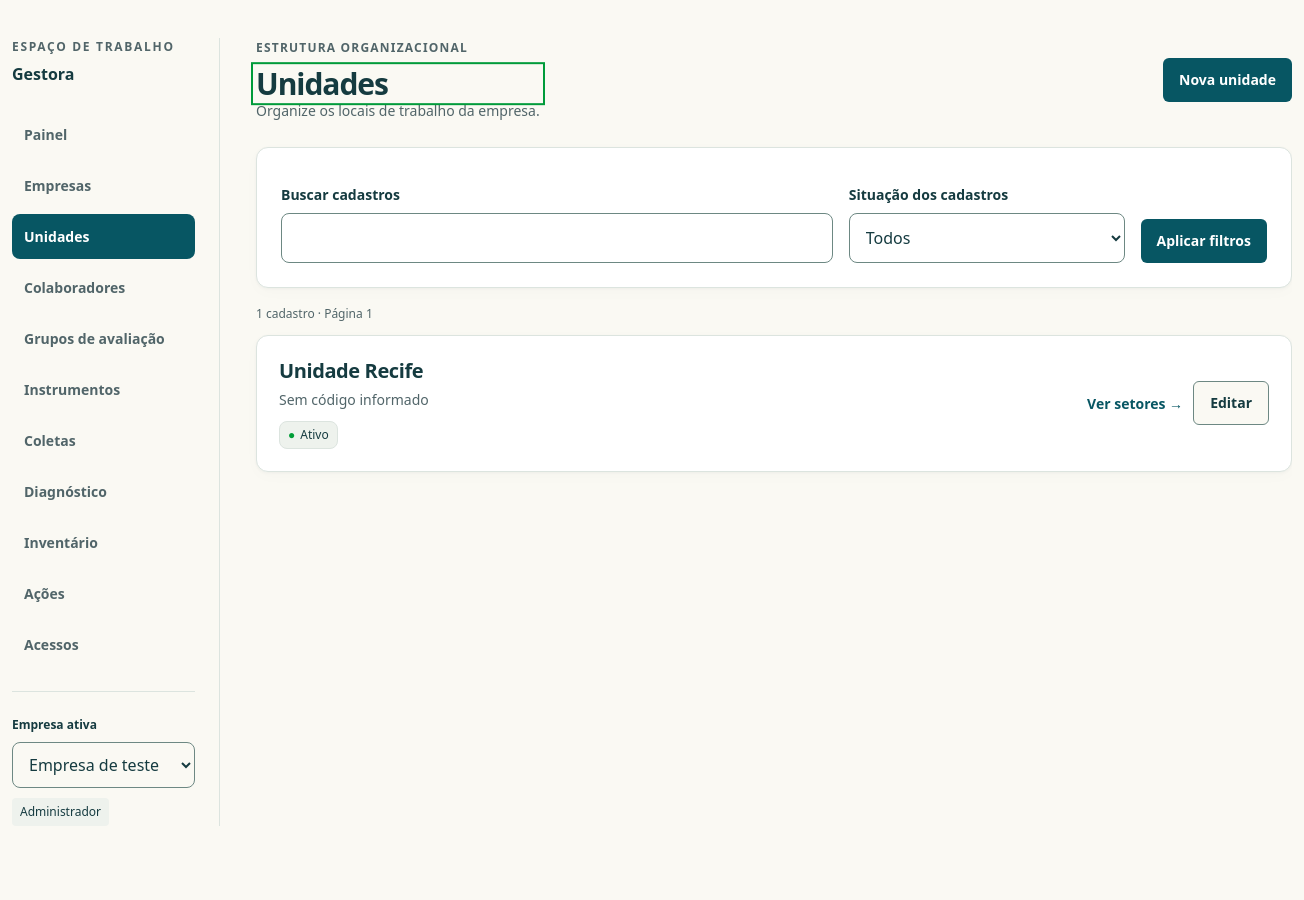
it: aplica uma nova busca, reinicia a página e explica o impacto da desativação
In the search field labelled "Buscar cadastros": (557, 238) [281,213,833,263], type "Recife"
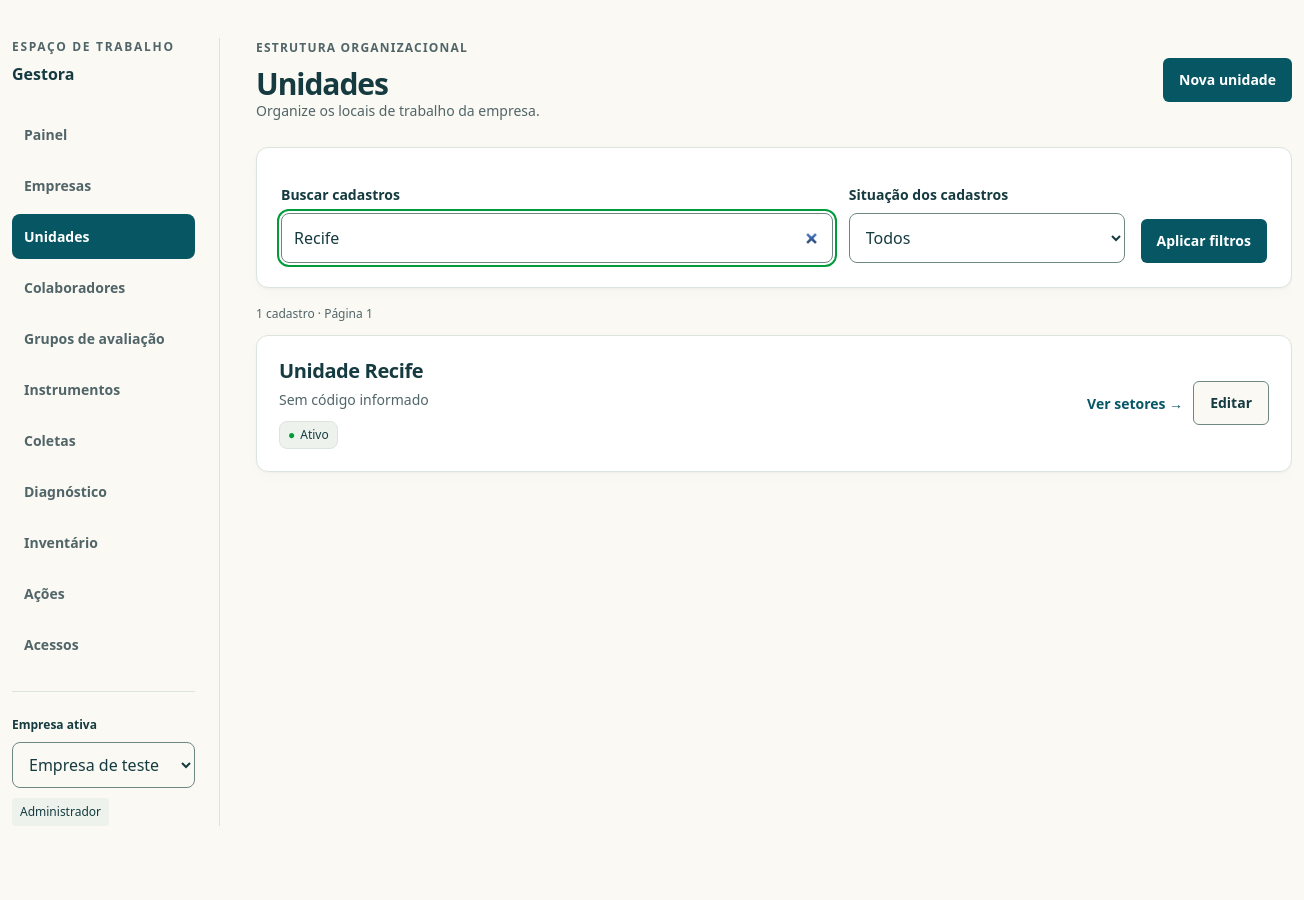
Click the button "Aplicar filtros": (1204, 241) [1140,219,1267,263]
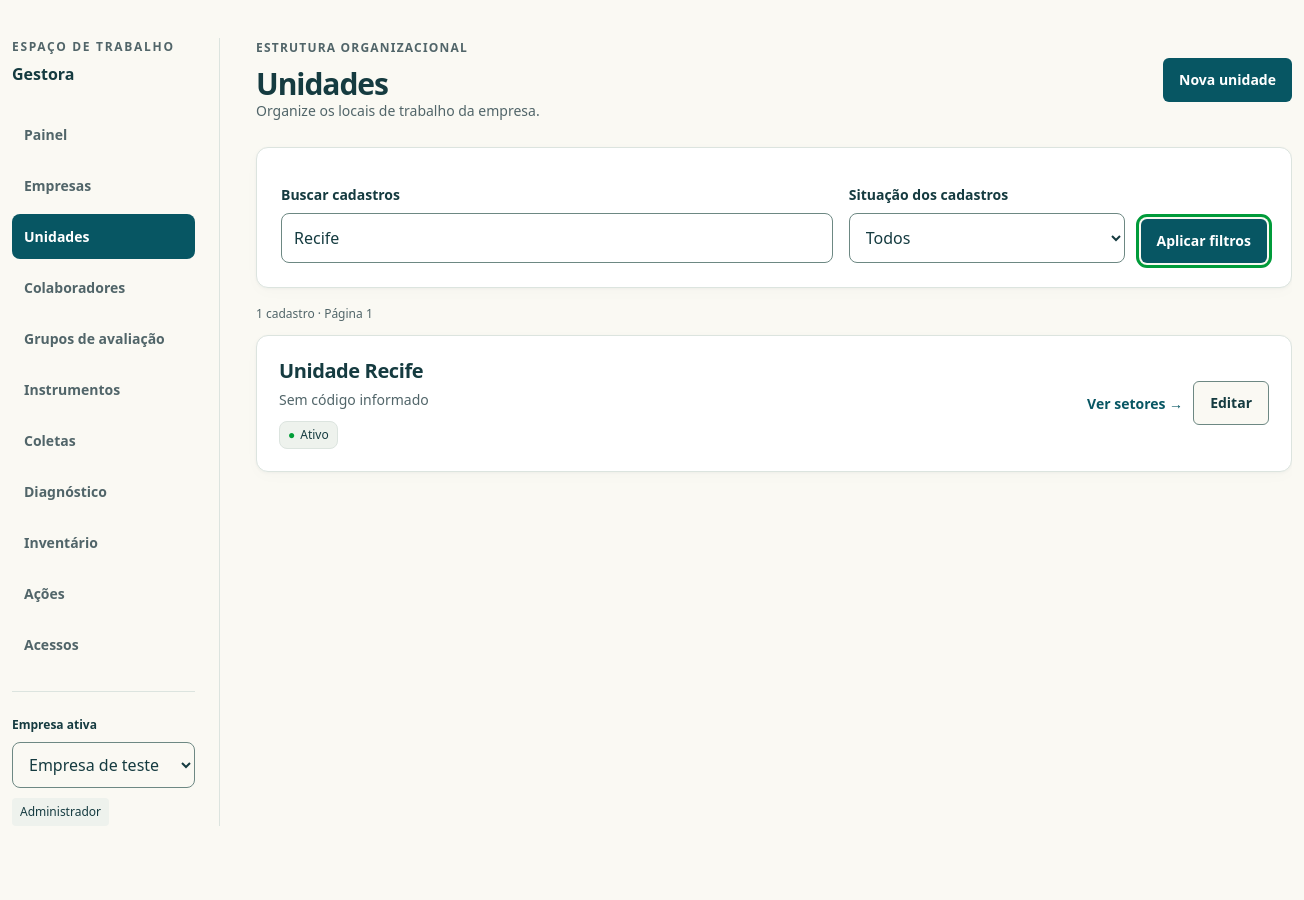
Click the button named "Editar unidade Unidade Recife": (1231, 404) [1193,382,1269,426]
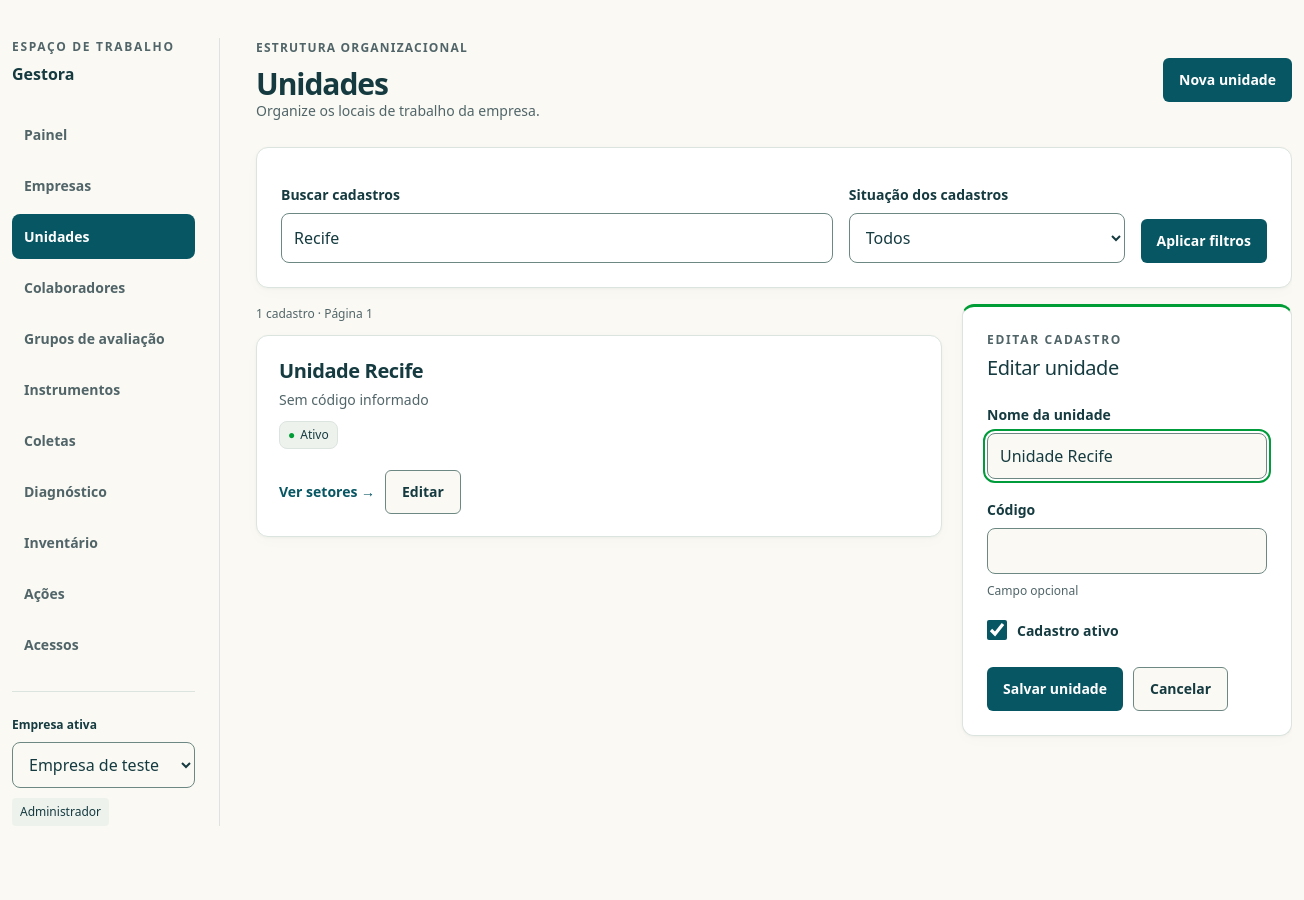
Click the checkbox labelled "Cadastro ativo": (997, 630) [987,620,1007,640]
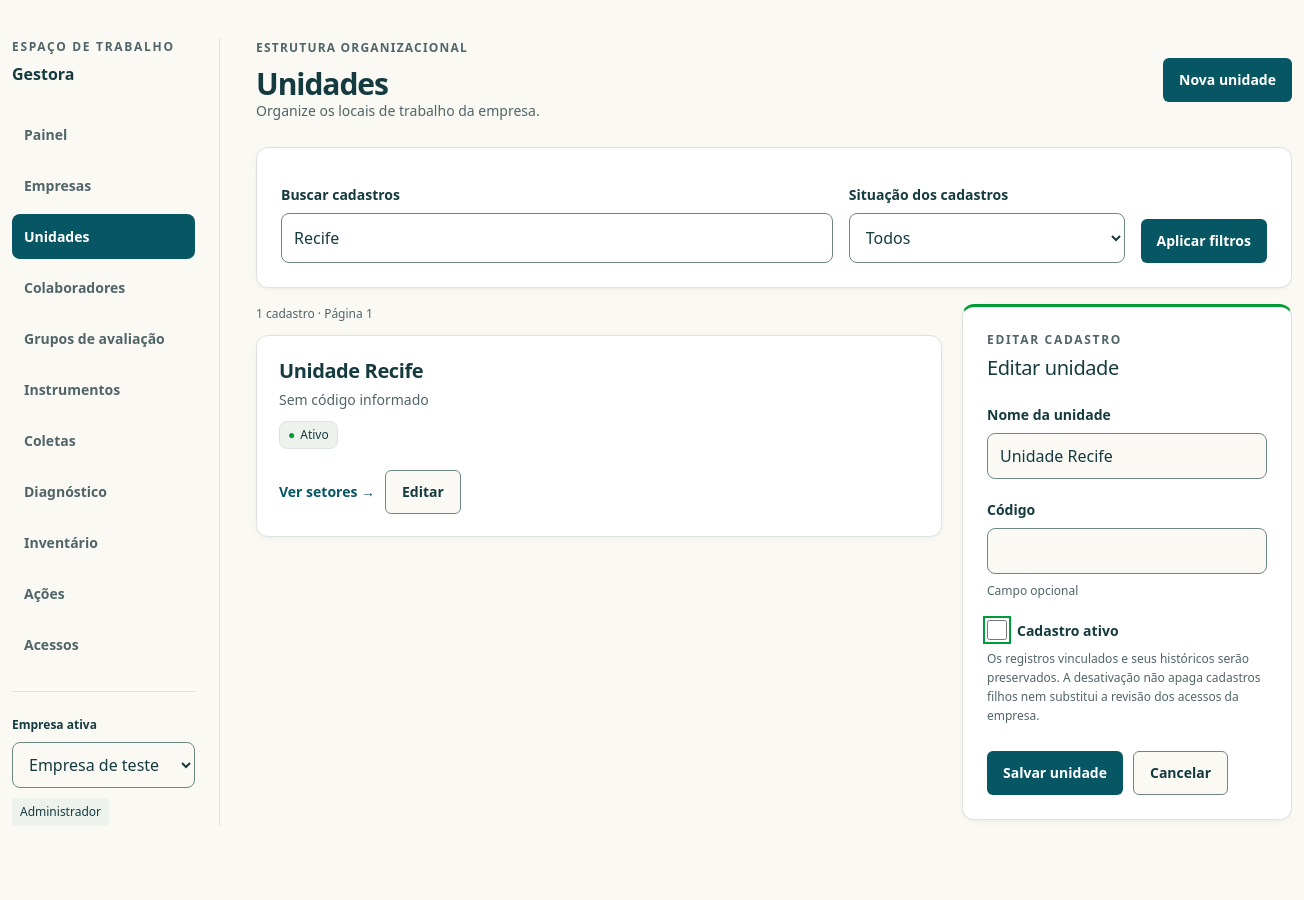
Expected: the text "Os registros vinculados e seus históricos serão preservados" is shown, [987,650,1260,724]
